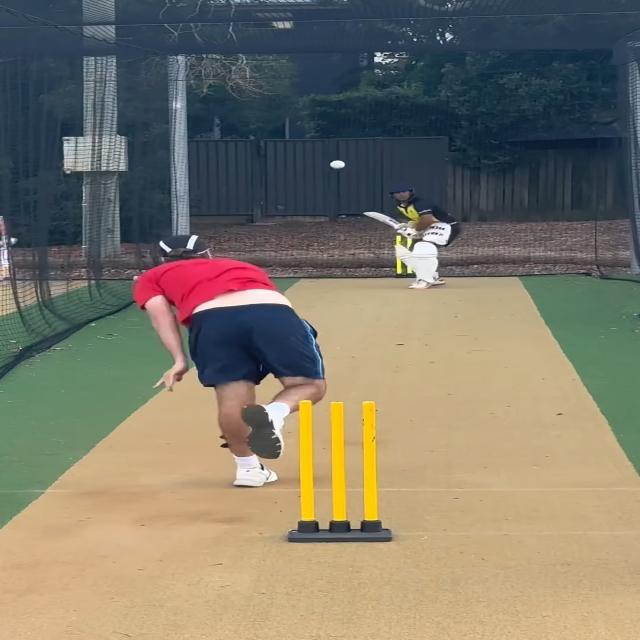ball: (329, 159, 347, 170)
stump: (288, 398, 396, 544)
